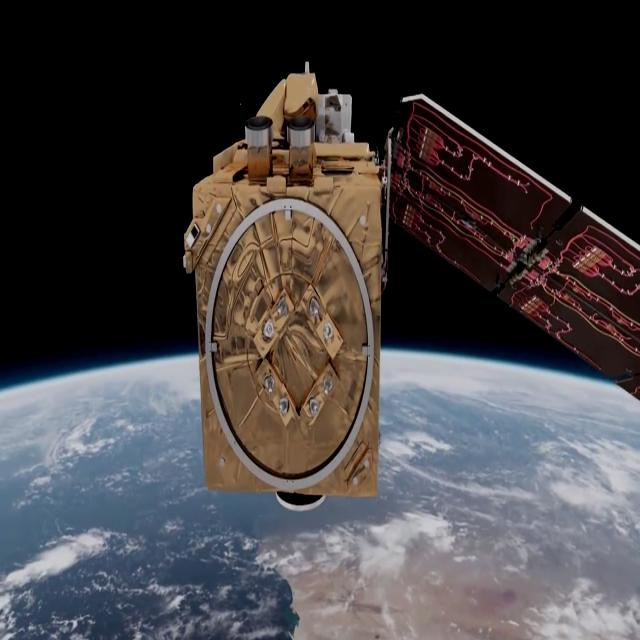satellite: (179, 55, 640, 536)
